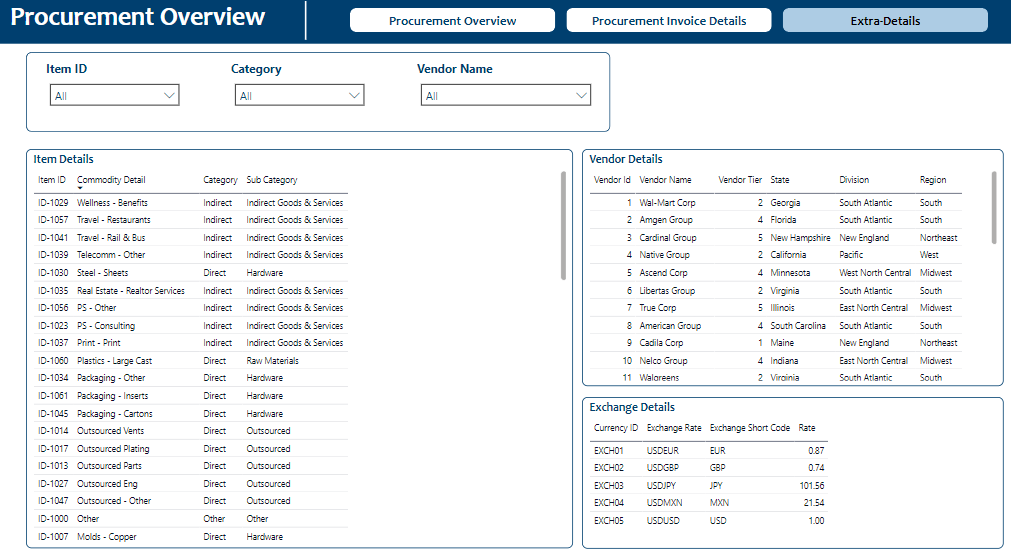

The page's visual inventory and layout, read from the dashboard file:
{"tool":"powerbi","page":{"name":"Extra-Details","canvas":[1280,720],"ordinal":3},"visuals":[{"type":"shape","box":[38.3,71.7,731.7,100],"z":0},{"type":"shape","box":[0,0,1280,61.4],"z":1000},{"type":"textbox","box":[14.3,2.9,344.3,55.7],"z":2000},{"type":"pageNavigator","box":[444.3,15.7,800,30],"z":3000},{"type":"shape","box":[341.4,7.1,94.3,48.6],"z":4000},{"type":"slicer","title":"Category","fields":{"Values":["d_item_product.Category Hierarchy.Category","d_item_product.Category Hierarchy.Sub Category"]},"box":[290.8,81.7,181.7,80],"z":5000},{"type":"tableEx","title":"Exchange Details","fields":{"Values":["d_exchange_rates.Currency ID","d_exchange_rates.Exchange Rate","d_exchange_rates.Exchange Short Code","d_exchange_rates.Rate"]},"box":[735,503.3,528.3,190],"z":6000},{"type":"tableEx","title":"Item Details","fields":{"Values":["d_item_product.Item ID","d_item_product.Commodity Detail","d_item_product.Category","d_item_product.Sub Category"]},"box":[38.3,193.3,685,500],"z":7000},{"type":"tableEx","title":"Vendor Details","fields":{"Values":["d_vendor.Vendor Id","d_vendor.Vendor Name","d_vendor.Vendor Tier","d_vendor.State","d_vendor.Division","d_vendor.Region"]},"box":[735,193.3,528.3,296.7],"z":8000},{"type":"slicer","title":"Item ID","fields":{"Values":["d_item_product.Item ID","d_item_product.Commodity Detail"]},"box":[58.3,81.7,181.7,80],"z":9000},{"type":"slicer","title":"Vendor Name","fields":{"Values":["d_vendor.Vendor ID Str","d_vendor.Vendor Name"]},"box":[523.3,81.7,233.3,80],"z":10000}]}

Visuals, with their boxes in screenshot pixels (x1, y1, x2, y2), scaled from the page's 1280x720 canvas onto the 1011x554 screenshot:
shape: [30, 55, 608, 132]
shape: [0, 0, 1010, 47]
textbox: [11, 2, 283, 45]
pageNavigator: [351, 12, 983, 35]
shape: [270, 5, 344, 43]
"Category" slicer: [230, 63, 373, 124]
"Exchange Details" tableEx: [581, 387, 998, 533]
"Item Details" tableEx: [30, 149, 571, 533]
"Vendor Details" tableEx: [581, 149, 998, 377]
"Item ID" slicer: [46, 63, 190, 124]
"Vendor Name" slicer: [413, 63, 598, 124]
